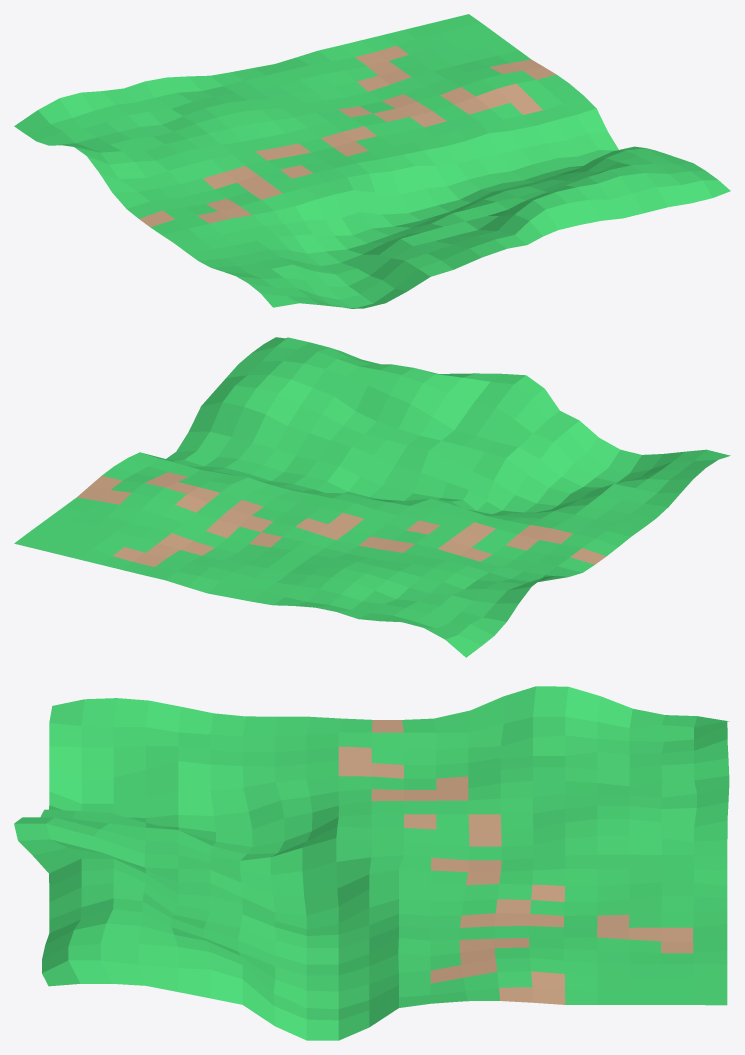
Rendered from Land8.fbx.
The picture shows the model from 3 angles, top to bottom: view 1: azimuth 30°, elevation 25°; view 2: azimuth 150°, elevation 25°; view 3: azimuth 270°, elevation 25°; orthographic projection. The views are drawn at different scales.
Visible parts, largest first — view 1: PlatformCenter.003; view 2: PlatformCenter.003; view 3: PlatformCenter.003.
Part boxes in pixels (bbox=[...]): PlatformCenter.003: bbox=[14, 14, 730, 308]; PlatformCenter.003: bbox=[14, 337, 730, 657]; PlatformCenter.003: bbox=[14, 686, 729, 1040].
Size of the model in its own units: 3535 by 438 by 3705.
